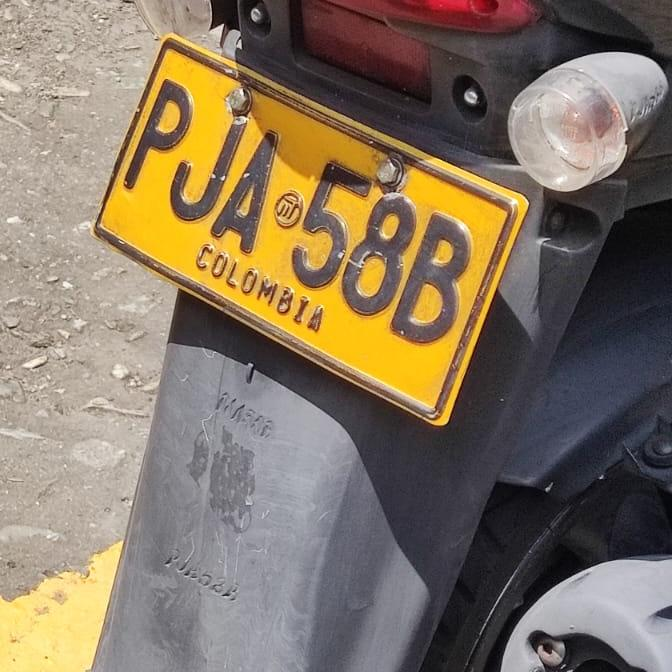plates: (93, 35, 524, 424)
